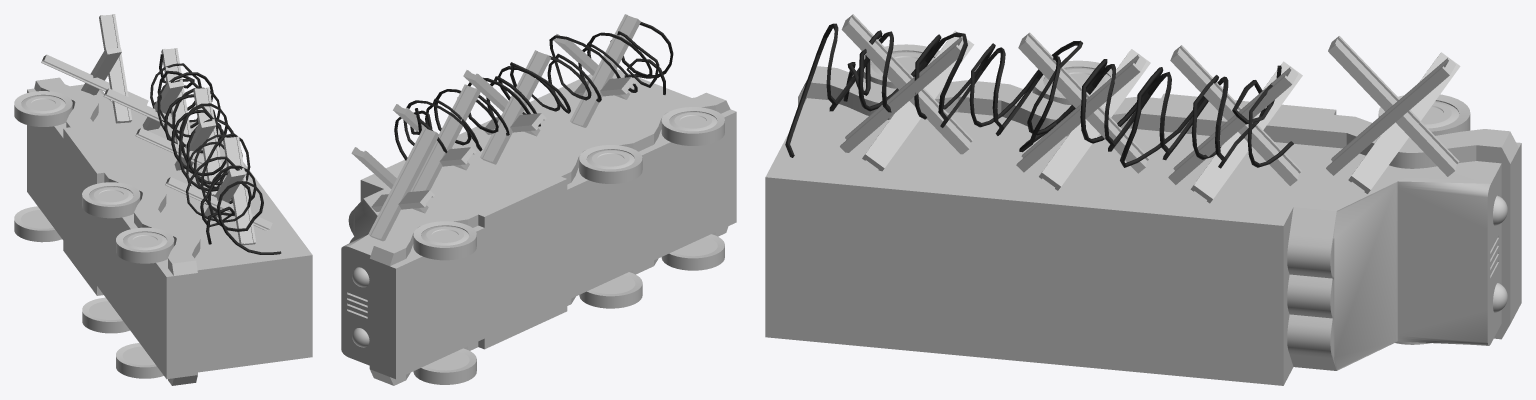
Rendered from Truck baricade.fbx.
3 views of the same model, side by side, from view 1: azimuth 30°, elevation 25°; view 2: azimuth 150°, elevation 25°; view 3: azimuth 270°, elevation 25° (orthographic). The views are drawn at different scales.
Parts seen in each view (by area): view 1: Truck baricade; view 2: Truck baricade; view 3: Truck baricade.
Part boxes in pixels (left/top/right/bottom): Truck baricade: left=14, top=14, right=312, bottom=385; Truck baricade: left=341, top=14, right=736, bottom=385; Truck baricade: left=765, top=14, right=1521, bottom=385.
Size of the model in its own units: 937 by 817 by 1846.
